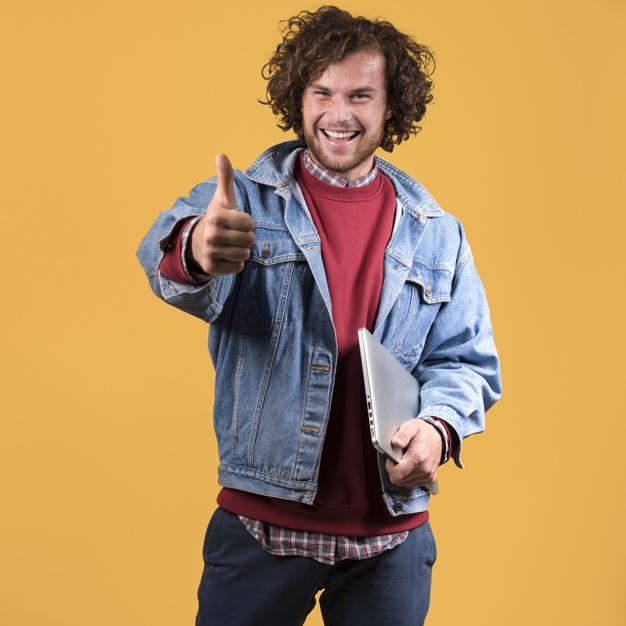thumbsup: (203, 152, 256, 276)
